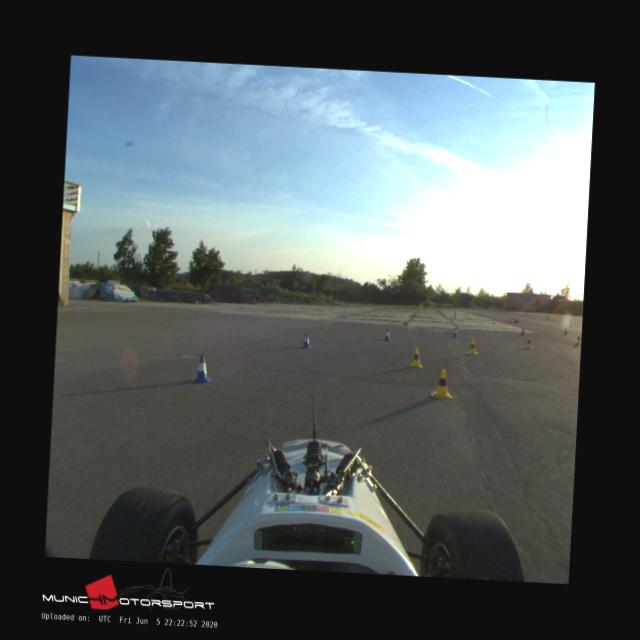blue_cone: (192, 354, 214, 384), (301, 333, 312, 349), (383, 329, 392, 341), (452, 328, 458, 337)
yellow_cone: (430, 368, 454, 400), (409, 348, 424, 368), (468, 339, 478, 354), (524, 336, 533, 348)
